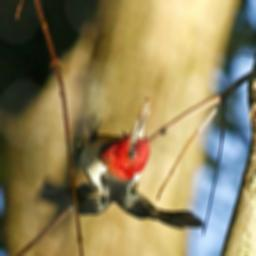Woodpecker: (37, 95, 213, 241)
